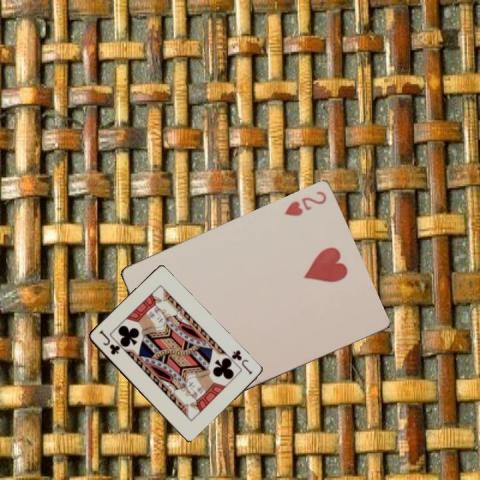2h: (281, 188, 328, 219)
Jc: (95, 327, 121, 356), (228, 347, 253, 376)
